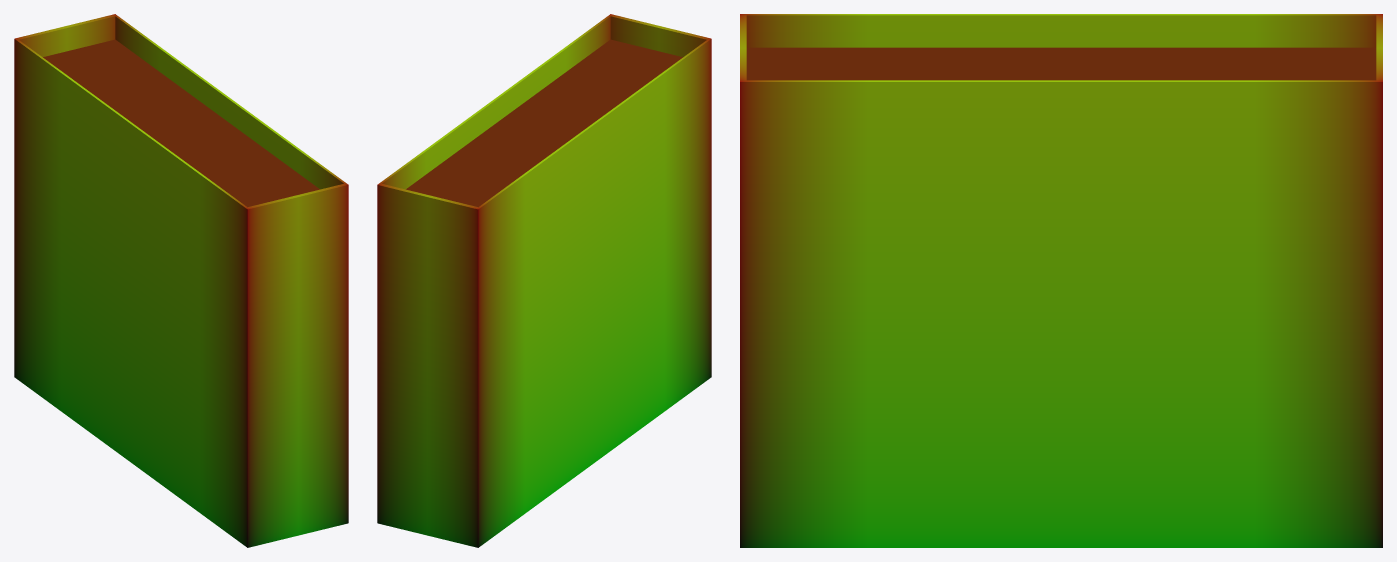
File: nha_pho_5x20.far.glb
The picture shows the model from 3 angles, left to right: view 1: azimuth 30°, elevation 25°; view 2: azimuth 150°, elevation 25°; view 3: azimuth 270°, elevation 25°; orthographic projection. The views are drawn at different scales.
Parts seen in each view (by area): view 1: nha_pho_5x20; view 2: nha_pho_5x20; view 3: nha_pho_5x20.
Boxes of the visible parts, x1,y1,x2,y2 form: nha_pho_5x20: [14, 14, 348, 547]; nha_pho_5x20: [377, 14, 711, 547]; nha_pho_5x20: [740, 14, 1382, 547].
Size of what is drawn, in the model's own units: 5 by 16 by 20.
